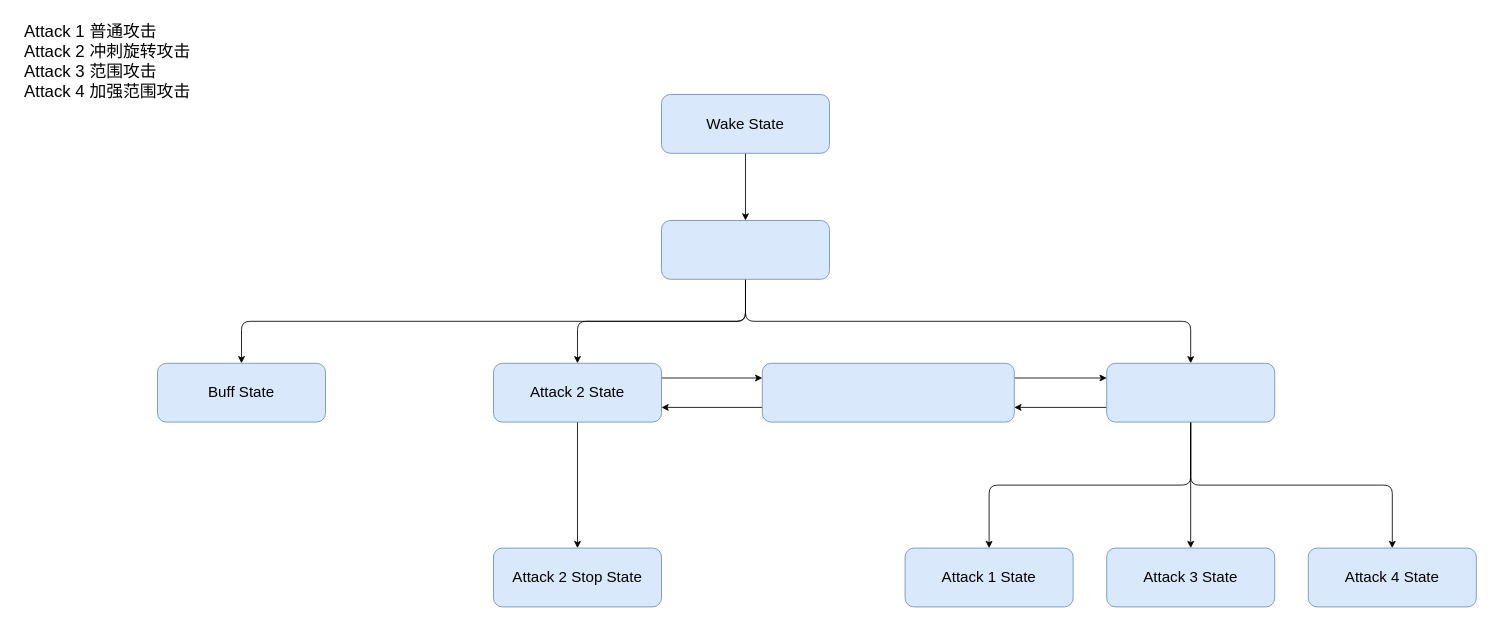
Some shapes in this 1491 by 622 pixel diagram are drawn without their labels. Here are the shapes that lost their labels. From the top down, the centre of each, then its label:
point (745, 249): Idle State
point (887, 392): Turn Around To Left State Turn Around To Right State
point (1190, 392): Chase State
